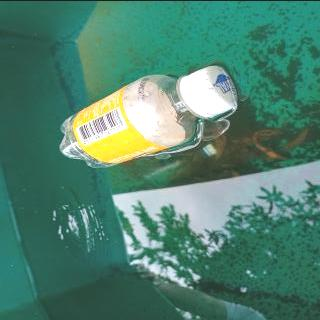bottle: (58, 63, 240, 167)
